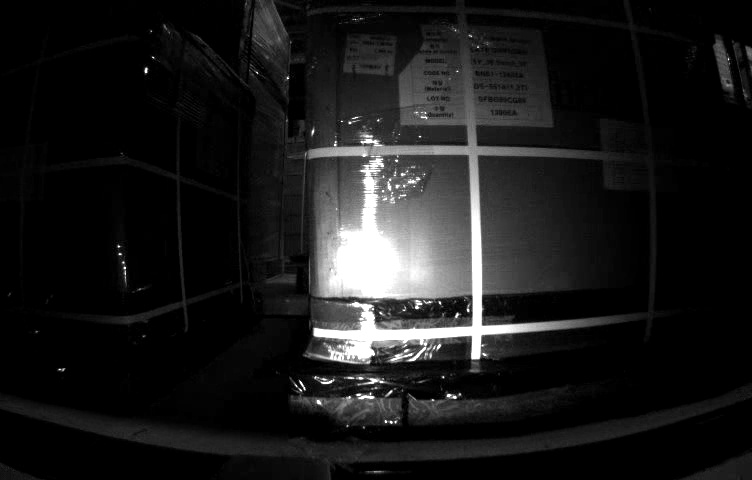True Barcode: (342, 33, 399, 77)
